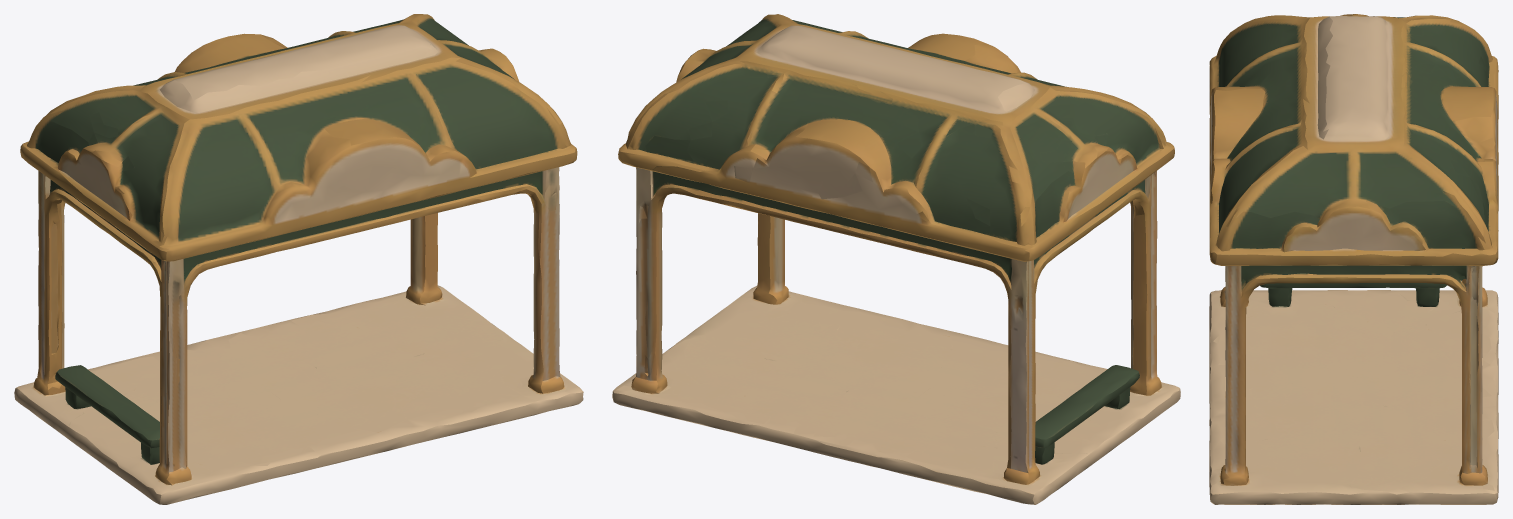
The model's file is rest-pavilion.glb.
3 views of the same model, side by side, from view 1: azimuth 30°, elevation 25°; view 2: azimuth 150°, elevation 25°; view 3: azimuth 270°, elevation 25° (orthographic). The views are drawn at different scales.
Visible parts, largest first — view 1: world; view 2: world; view 3: world.
Part boxes in pixels (x1,y1,x2,y2): world: (14,14,583,504); world: (612,14,1180,504); world: (1209,14,1498,504).
Size of the model in its own units: 1.2 by 0.925 by 0.7187.
1 material, 1 textured.
